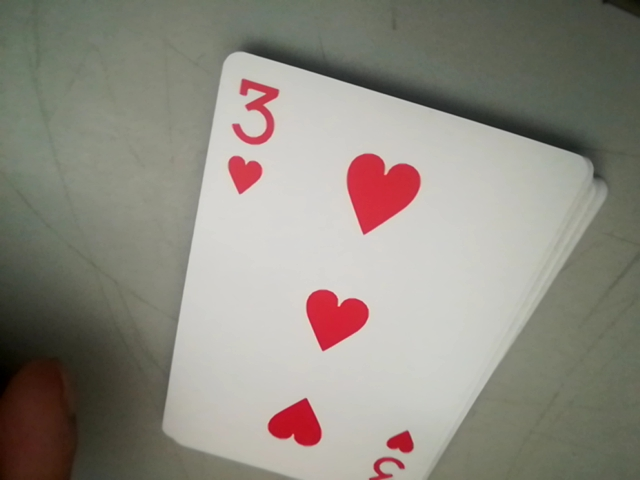hx 3: (213, 59, 289, 192)
